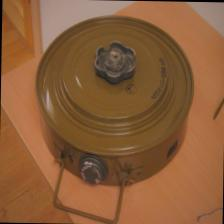TM-46: (20, 13, 215, 196)
